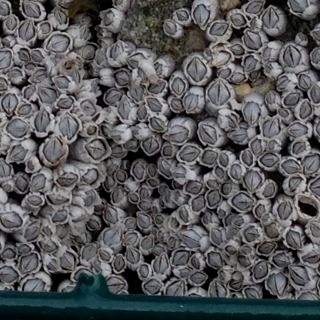Barnacle: (56, 98, 79, 139), (206, 79, 230, 107), (6, 116, 30, 139), (41, 138, 63, 163), (44, 34, 71, 54), (266, 273, 288, 297), (153, 246, 170, 276), (24, 274, 46, 297), (186, 58, 206, 83), (281, 43, 300, 68), (289, 265, 309, 288), (165, 125, 189, 144), (86, 140, 108, 160), (243, 171, 263, 193), (261, 7, 279, 30), (243, 101, 260, 125), (0, 211, 20, 231), (22, 221, 41, 242), (18, 20, 36, 42), (243, 31, 262, 51), (20, 252, 39, 272), (106, 277, 126, 296), (198, 123, 216, 144), (60, 251, 78, 272), (2, 93, 17, 118), (34, 111, 51, 133), (178, 146, 200, 163), (231, 194, 253, 211), (193, 4, 209, 27), (56, 168, 79, 184), (287, 122, 308, 139), (165, 281, 186, 298), (126, 53, 148, 69), (182, 230, 200, 249), (39, 87, 56, 107), (262, 118, 278, 139), (303, 155, 319, 176), (182, 179, 203, 195), (103, 228, 121, 246), (143, 278, 161, 296), (22, 0, 41, 17), (209, 281, 226, 300), (116, 98, 130, 121), (259, 153, 279, 169), (252, 260, 268, 280), (208, 22, 229, 37), (113, 70, 130, 88), (172, 250, 190, 267), (128, 84, 144, 103), (0, 267, 19, 283), (244, 0, 264, 15), (276, 202, 291, 222), (103, 207, 118, 227), (171, 77, 185, 98), (49, 192, 70, 206), (243, 225, 260, 242), (229, 128, 247, 144), (285, 231, 301, 249), (281, 160, 300, 175), (14, 176, 29, 195), (288, 0, 308, 14), (148, 116, 165, 132), (142, 138, 159, 154), (39, 237, 57, 252), (301, 250, 319, 265), (272, 252, 290, 267), (32, 174, 48, 190), (81, 43, 96, 60), (53, 74, 70, 89), (104, 90, 121, 105), (110, 145, 127, 160), (9, 143, 24, 160), (230, 14, 248, 28), (0, 49, 12, 70), (148, 81, 166, 95), (208, 190, 222, 208), (191, 195, 205, 213), (189, 272, 207, 286), (250, 137, 263, 156), (299, 100, 311, 120), (85, 170, 101, 185), (27, 194, 43, 209), (72, 229, 88, 244), (282, 93, 299, 107), (184, 95, 198, 112), (81, 99, 95, 116), (201, 151, 218, 165), (243, 288, 260, 302), (126, 249, 139, 267), (147, 98, 162, 113), (81, 245, 96, 260), (214, 51, 230, 65), (298, 74, 312, 90), (240, 150, 253, 167), (131, 161, 143, 179), (243, 56, 256, 72), (159, 160, 172, 176), (70, 207, 83, 223), (258, 242, 274, 255), (208, 252, 221, 268), (229, 164, 241, 181), (113, 255, 125, 272), (110, 43, 121, 61), (211, 229, 222, 247), (16, 48, 30, 62), (33, 70, 47, 84), (51, 209, 65, 223), (264, 225, 278, 239), (123, 232, 137, 246), (293, 142, 306, 157), (288, 176, 301, 191), (103, 178, 116, 193), (111, 190, 124, 205), (138, 214, 151, 229), (78, 26, 90, 42), (0, 162, 12, 178), (174, 166, 186, 182), (82, 191, 94, 207), (141, 235, 153, 251), (54, 12, 67, 26), (229, 44, 243, 57), (170, 99, 184, 112), (225, 114, 238, 128), (262, 184, 275, 198), (122, 216, 135, 230), (229, 277, 243, 290), (310, 85, 319, 105), (19, 105, 34, 117), (123, 139, 138, 151), (309, 221, 319, 239), (0, 0, 11, 16), (202, 209, 213, 225), (57, 0, 76, 9), (153, 64, 166, 77), (277, 77, 290, 90), (5, 16, 17, 30), (164, 21, 176, 35), (179, 209, 191, 223), (236, 255, 250, 267), (103, 12, 114, 27), (137, 69, 148, 84), (23, 86, 34, 101), (225, 229, 240, 240), (218, 151, 228, 167), (31, 51, 44, 63), (110, 130, 123, 142), (91, 201, 104, 213), (2, 249, 15, 261), (229, 74, 244, 84), (137, 105, 147, 120), (114, 170, 126, 182), (138, 200, 151, 211), (178, 267, 191, 278), (222, 181, 232, 195), (266, 91, 275, 106), (176, 10, 188, 21), (98, 249, 109, 261), (88, 221, 101, 231), (48, 261, 58, 274), (219, 68, 230, 79), (10, 70, 21, 81), (162, 146, 173, 157), (234, 216, 245, 227), (225, 244, 236, 255), (253, 76, 263, 88), (0, 186, 12, 196), (312, 47, 319, 64), (263, 48, 272, 61), (96, 52, 105, 65), (255, 205, 264, 218), (191, 257, 200, 270), (225, 213, 233, 227), (131, 125, 141, 136), (215, 168, 225, 179), (128, 194, 139, 204), (139, 267, 149, 278), (170, 218, 179, 230), (26, 161, 35, 172), (19, 245, 30, 254), (241, 246, 252, 255), (164, 190, 171, 204), (250, 18, 258, 30), (207, 180, 219, 188), (148, 163, 155, 176), (278, 109, 288, 118), (268, 140, 278, 149), (139, 188, 148, 198), (168, 237, 175, 249), (261, 215, 270, 224), (265, 64, 273, 74), (157, 232, 165, 242), (218, 270, 225, 281), (155, 216, 163, 225), (218, 208, 225, 218)
